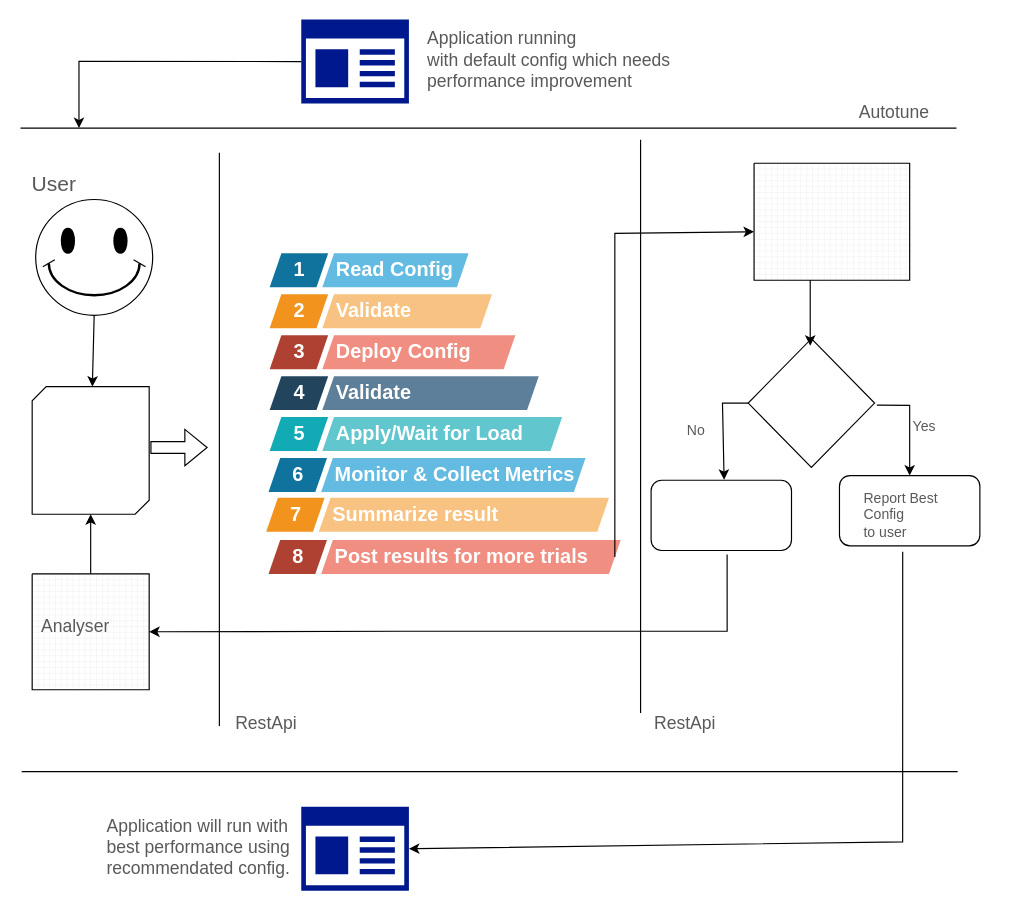
The diagram is 1027 pixels wide and 911 high, and some of its shapes have lost their labels. Each missing label, with the centre of its shape:
Best Config found ?: [811,402]
Experiment Trials having tunables at different layer.: [90,450]
Generate next trials with differnet set of tunables: [721,514]
Recommendation manager Compare & Analyse results: [831,221]
